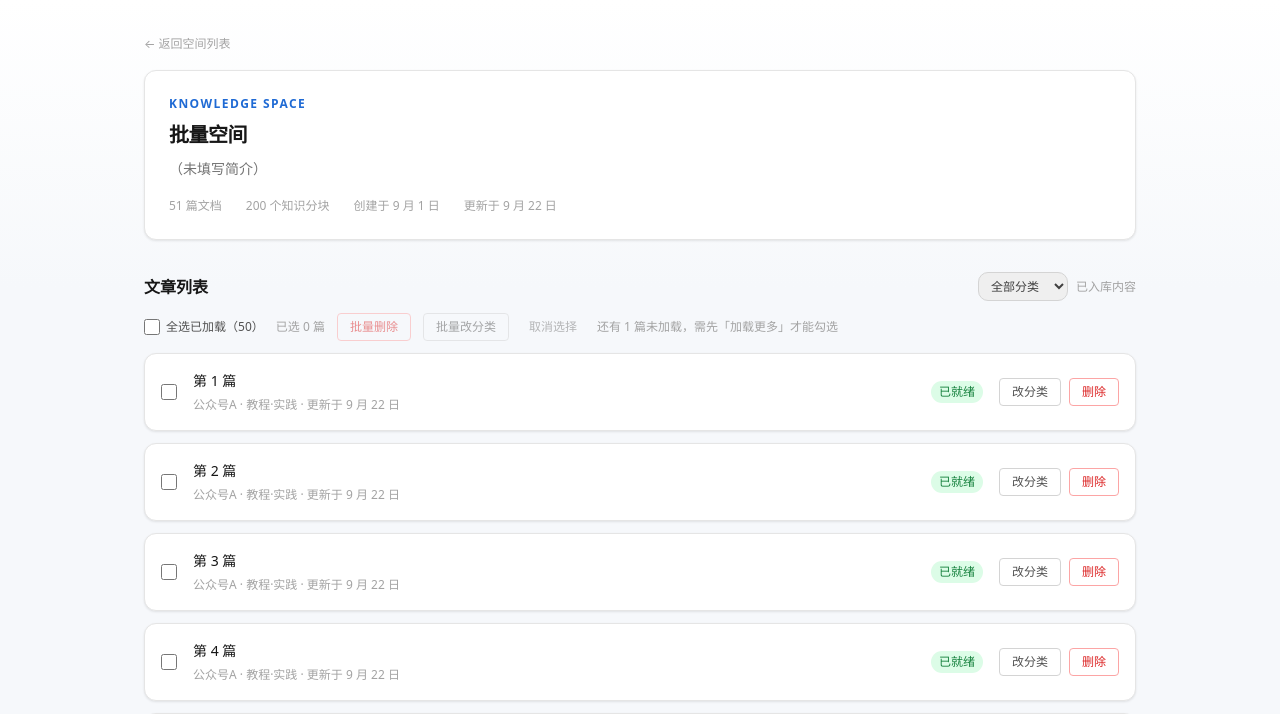
Scenario: R0.2.6 批量改分类：整批原子 › 单批一次请求全成功，报告目标分类并刷新分类集合（分类是资产级属性）
Click the checkbox labelled "全选已加载" at x=152, y=327, box [144,319,160,335]
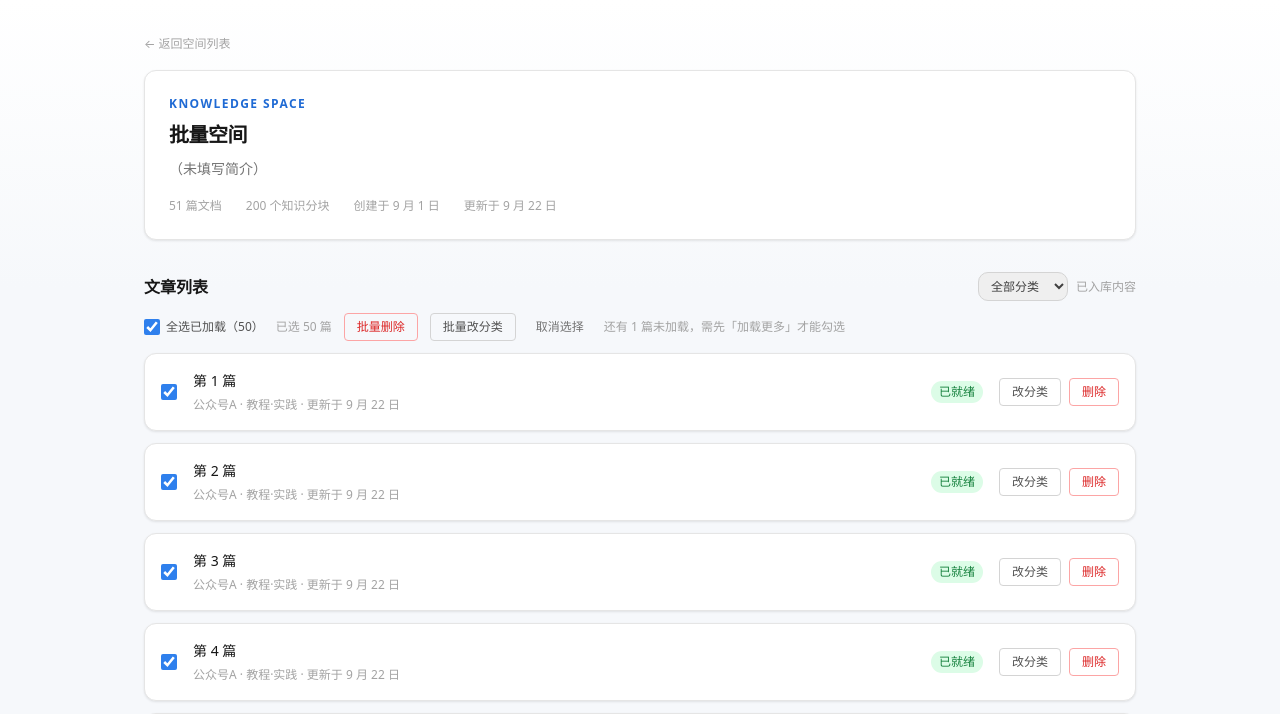
Expected: the text "已选 50 篇" is shown, [276,318,332,336]
Click the button "批量改分类" at x=473, y=327, box [430,313,516,341]
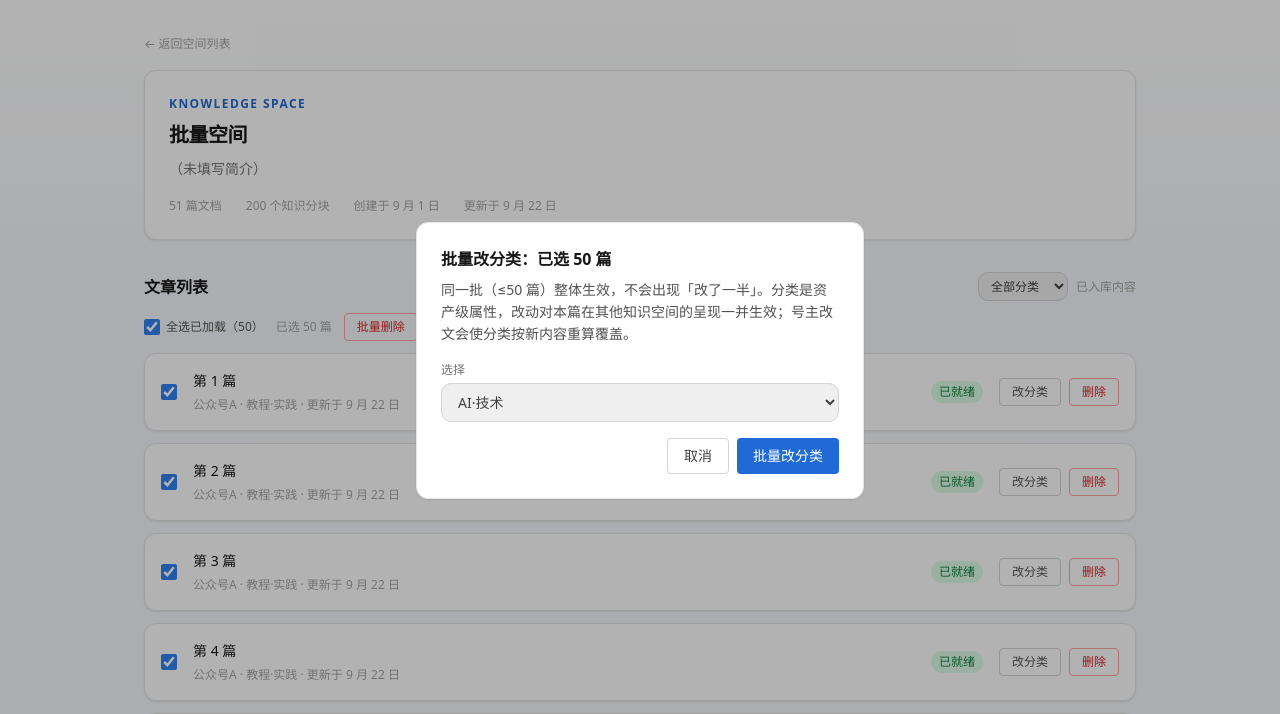
Select "教程·实践" in the dropdown labelled "选择" at x=640, y=402, box [441,382,839,422]
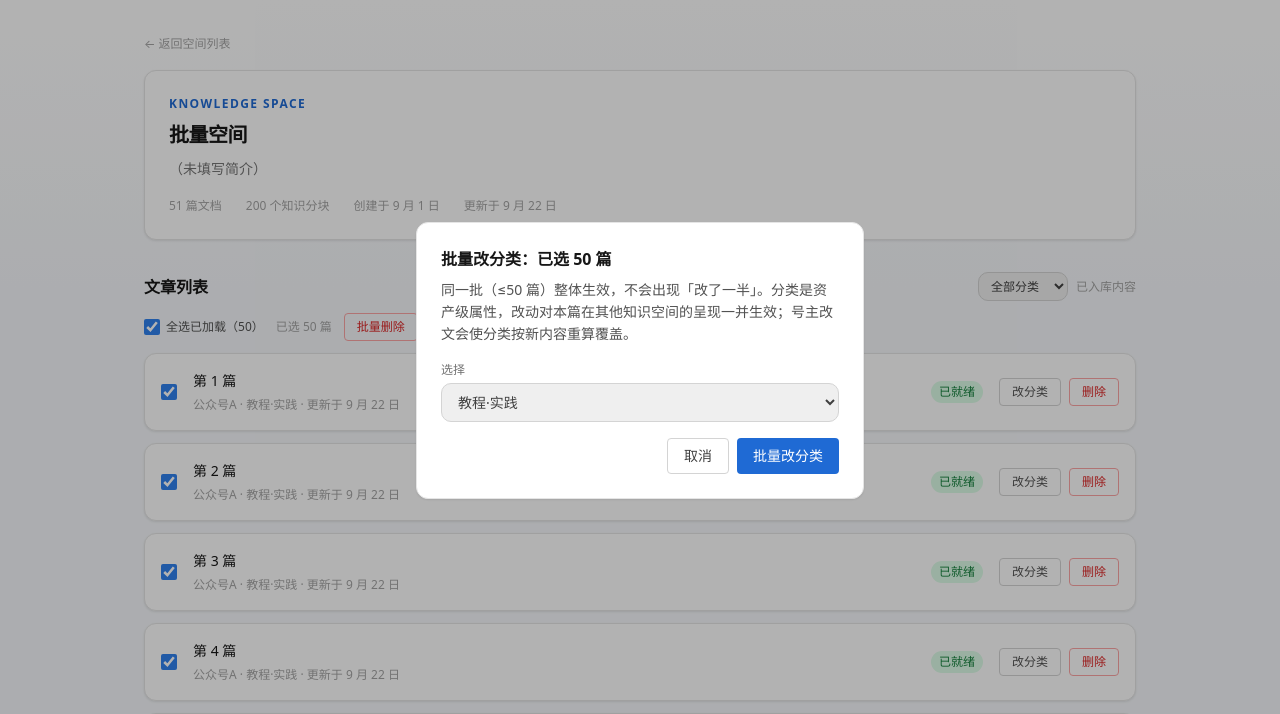
Click the button "批量改分类" at x=788, y=456, box [737,438,839,474]
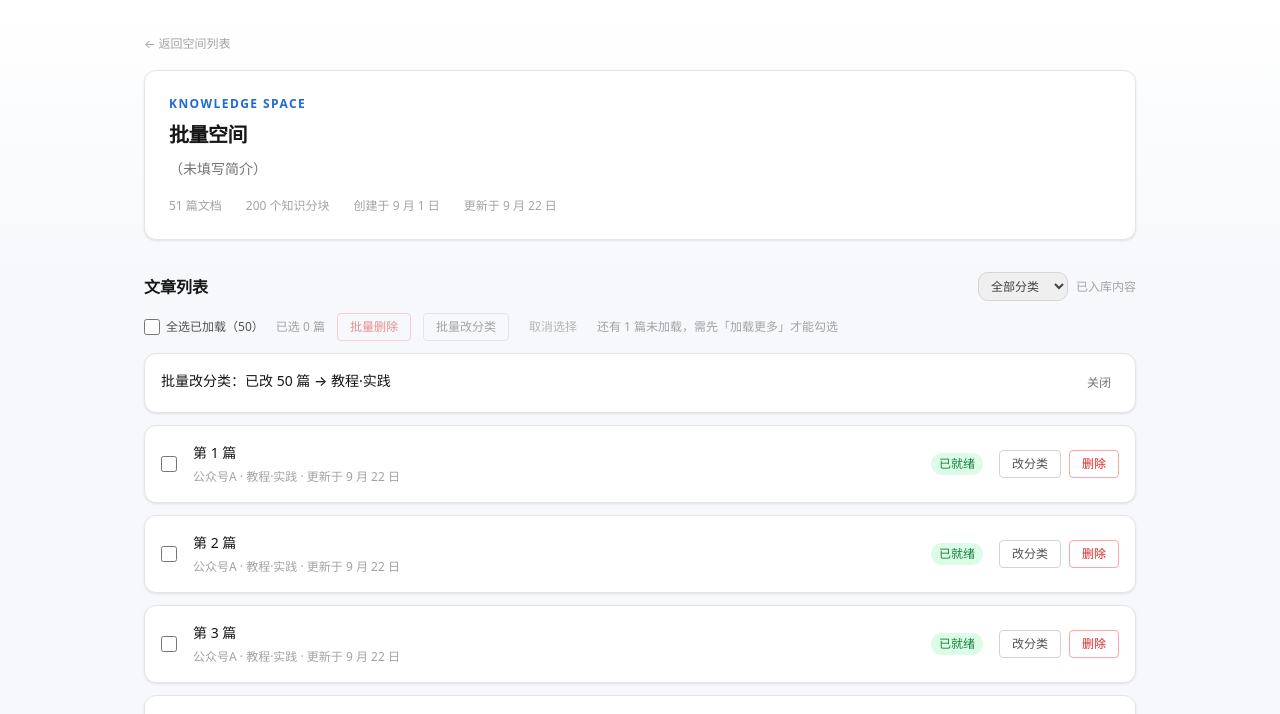
Expected: the text "批量改分类：已改 50 篇 → 教程·实践" is shown, [161,371,391,390]
Expected: the text "已选 0 篇" is shown, [276,318,325,336]
